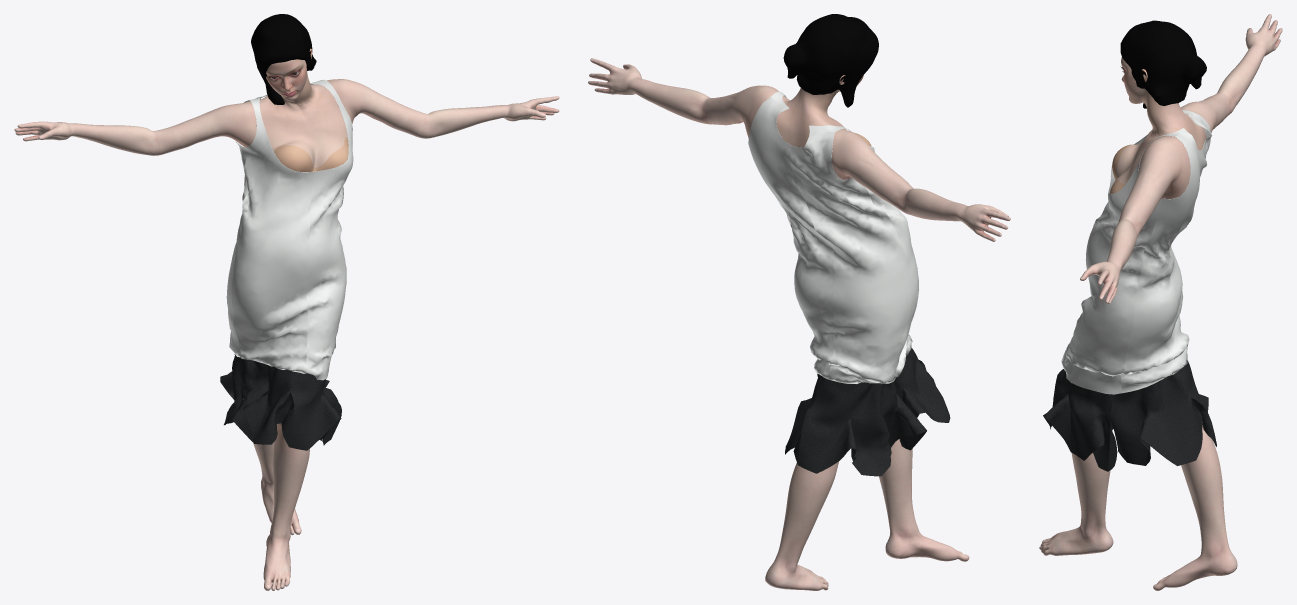
Rendered from random.obj.
3 views of the same model, side by side, from view 1: azimuth 30°, elevation 25°; view 2: azimuth 150°, elevation 25°; view 3: azimuth 270°, elevation 25° (orthographic). The views are drawn at different scales.
Size of the model in its own units: 1601 by 1717 by 679.
